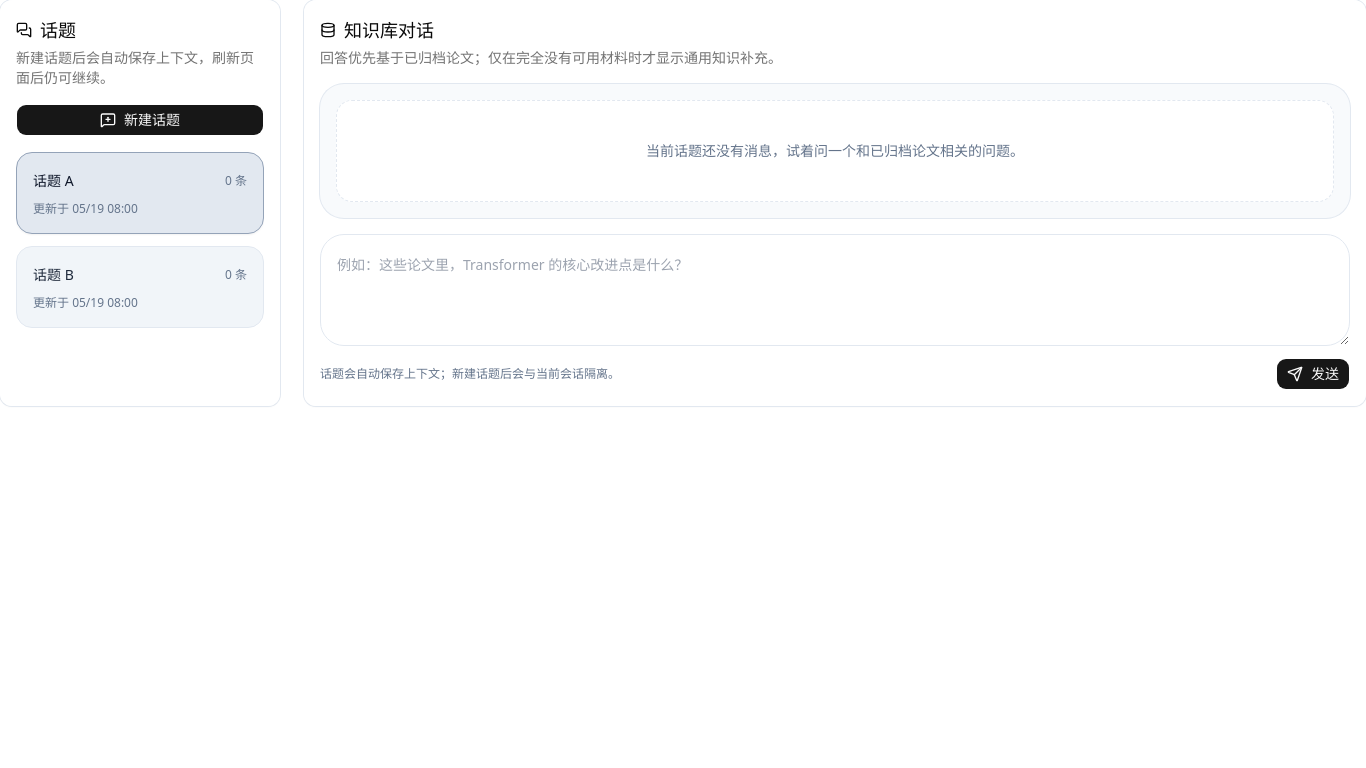
Test: ChatPanel › 按 topicId 隔离流式状态，切换话题后不串流
Type "请总结话题 A" into the text box at [835, 290], box [320,234,1350,346]
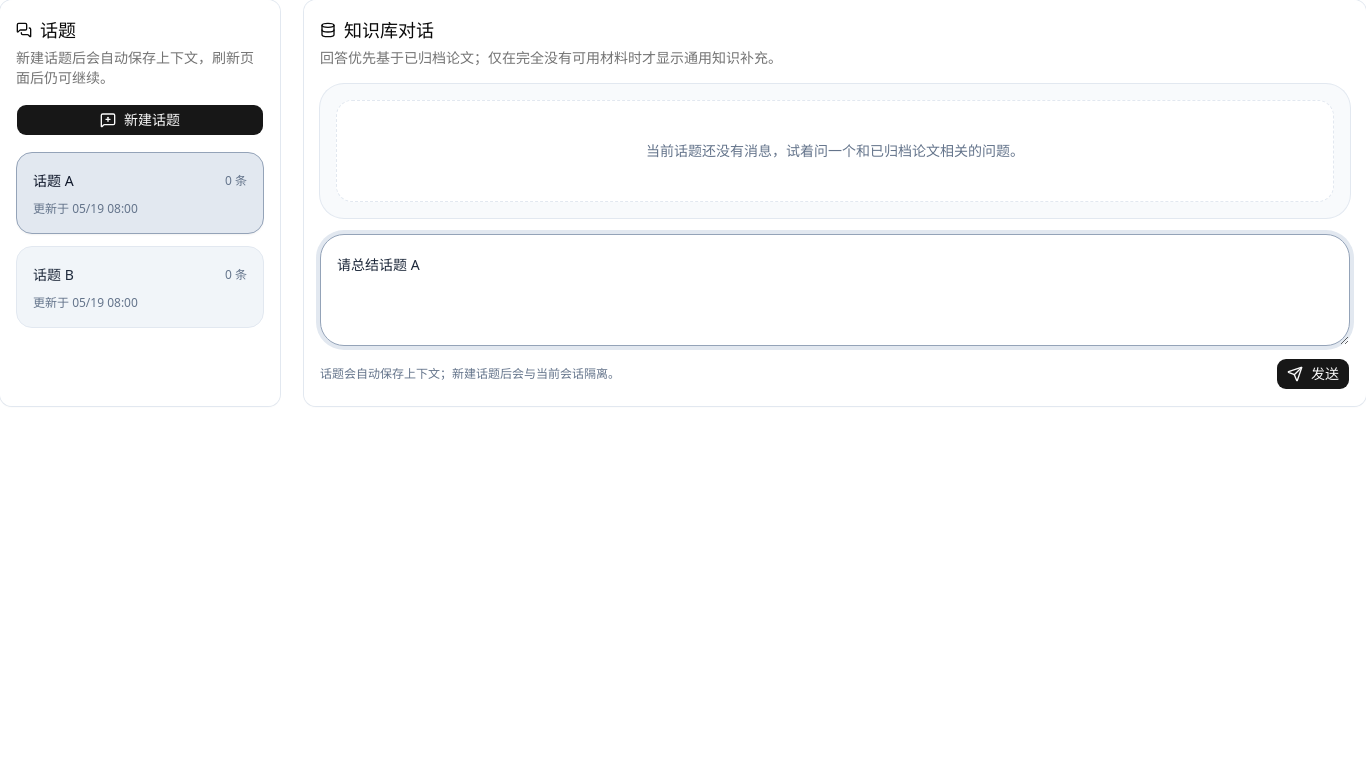
Click the button "发送" at [1313, 374], box [1276,358,1350,390]
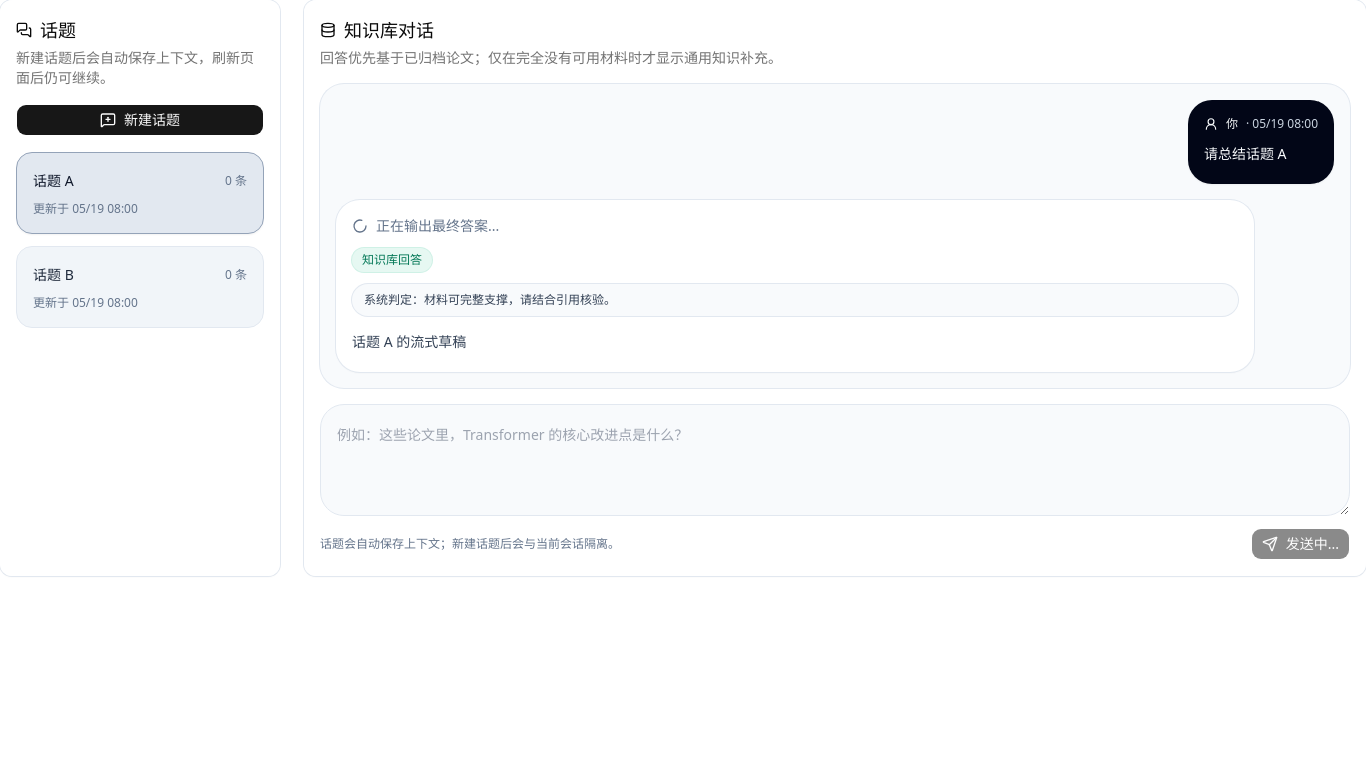
Now the text "话题 A 的流式草稿" is shown, box [352,332,466,351]
Now the button "发送中..." is shown, box [1251,528,1350,560]
Click the button "话题 B 0 条 更新于 05/19 08:00" at [140, 287], box [16,246,264,328]
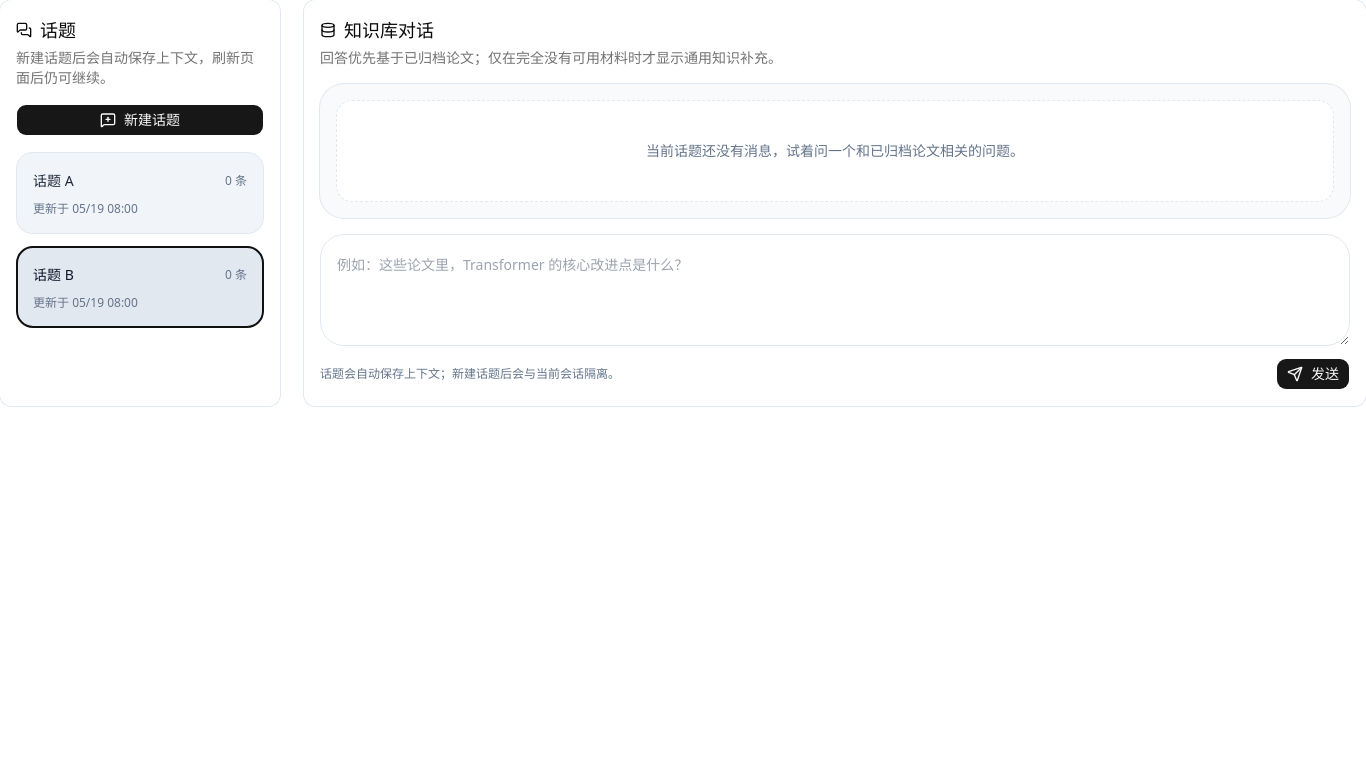
Now the text "话题 A 的流式草稿" is gone
Now the button "发送中..." is gone
Now the text "当前话题还没有消息，试着问一个和已归档论文相关的问题。" is shown, box [336,100,1334,202]
Click the button "话题 A 0 条 更新于 05/19 08:00" at [140, 193], box [16,152,264,234]
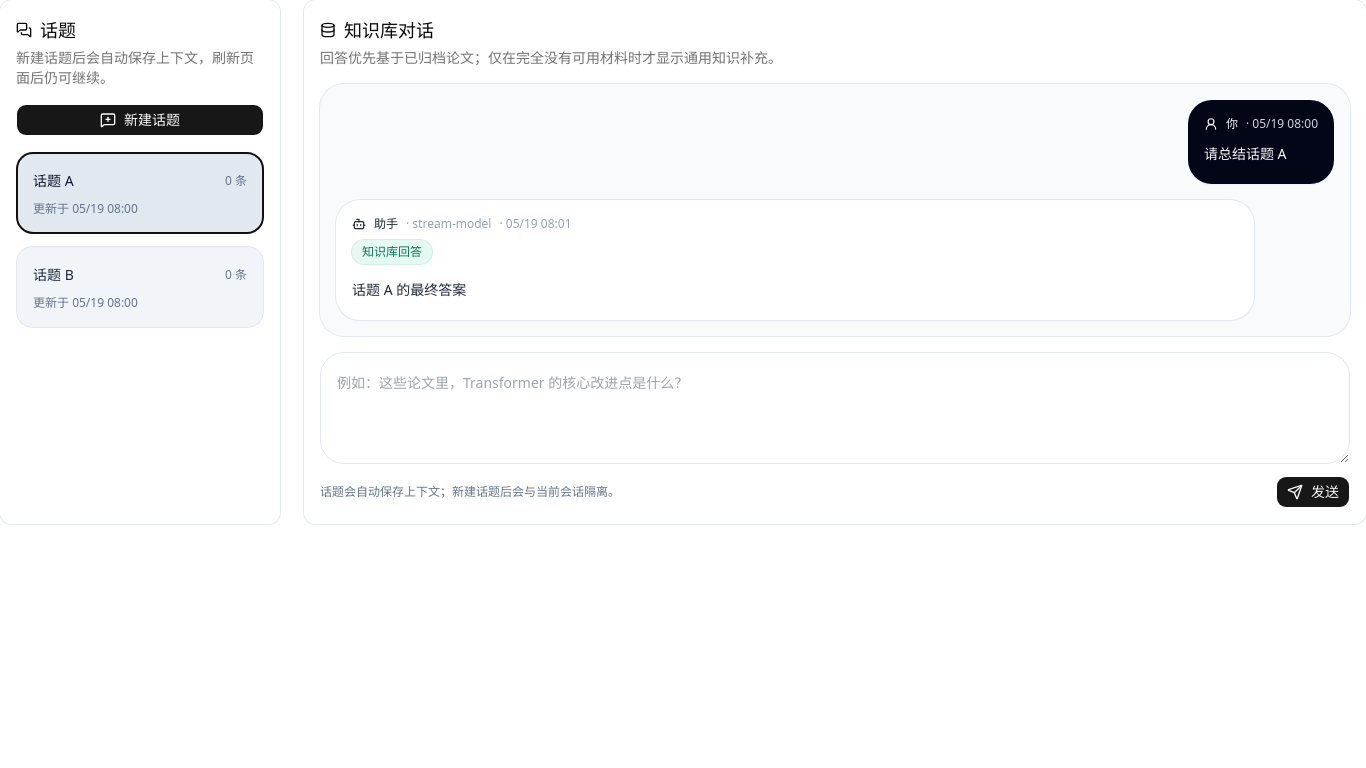
Now the text "话题 A 的最终答案" is shown, box [352,280,466,299]
